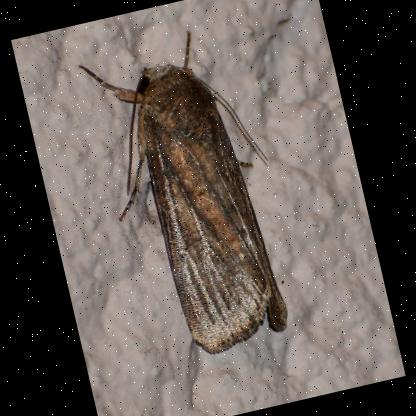Fall Armyworm Moth: (73, 17, 312, 374)
